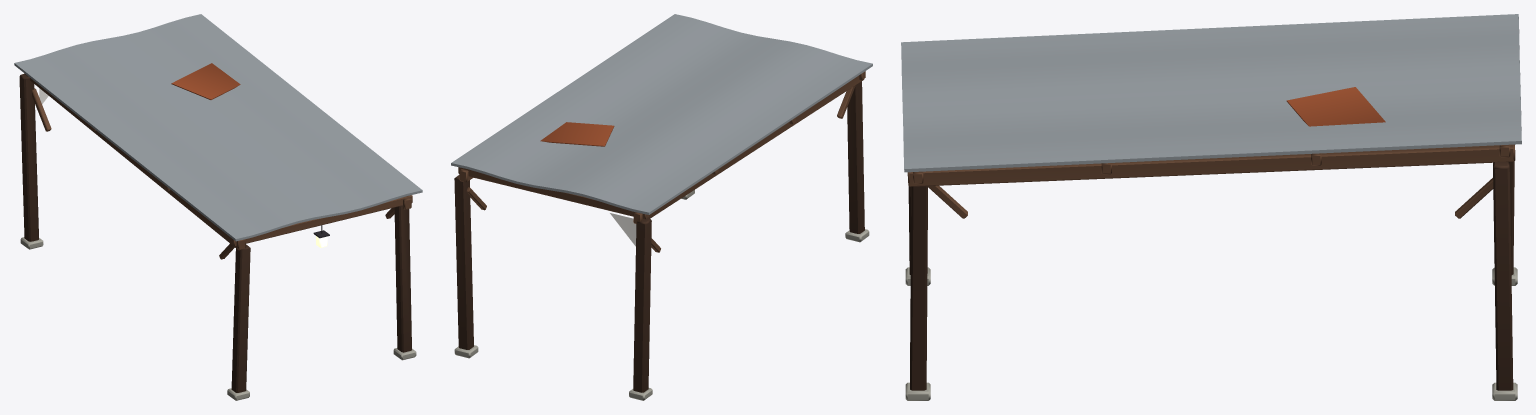
The model's file is carport_crooked.glb.
The picture shows the model from 3 angles, left to right: view 1: azimuth 30°, elevation 25°; view 2: azimuth 150°, elevation 25°; view 3: azimuth 270°, elevation 25°; orthographic projection. The views are drawn at different scales.
Parts seen in each view (by area): view 1: carport_crooked; view 2: carport_crooked; view 3: carport_crooked.
Boxes of the visible parts, bbox=[...] form: carport_crooked: bbox=[14, 14, 422, 400]; carport_crooked: bbox=[451, 14, 872, 400]; carport_crooked: bbox=[901, 14, 1521, 400].
Bounding box in the file's own units: 3 × 2.76 × 5.92.
